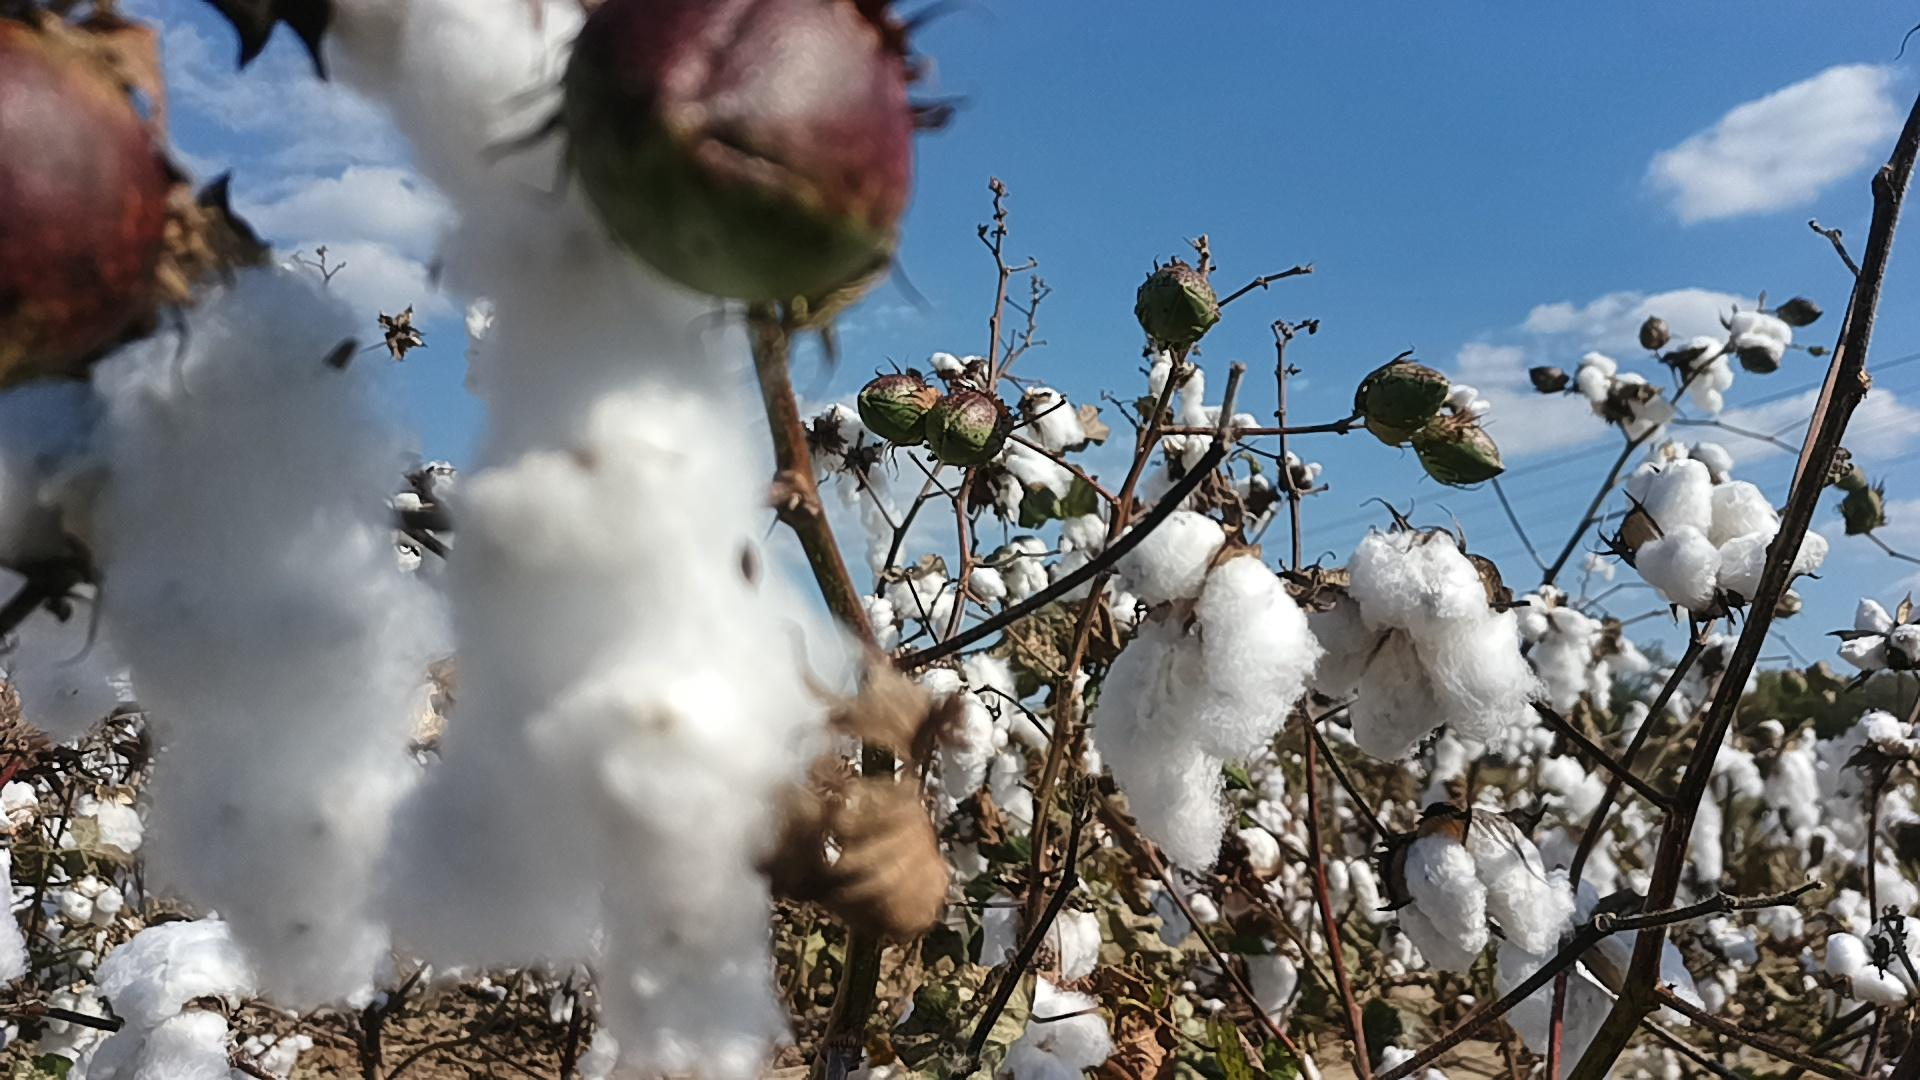cotton_ready: (318, 0, 837, 1080), (0, 218, 429, 1017), (1093, 510, 1333, 873), (1279, 529, 1545, 766), (1493, 868, 1708, 1068), (1630, 459, 1836, 608), (74, 923, 261, 1080), (1393, 808, 1552, 975), (918, 653, 1039, 820), (977, 881, 1102, 985), (992, 976, 1116, 1080), (1822, 915, 1920, 1009)
